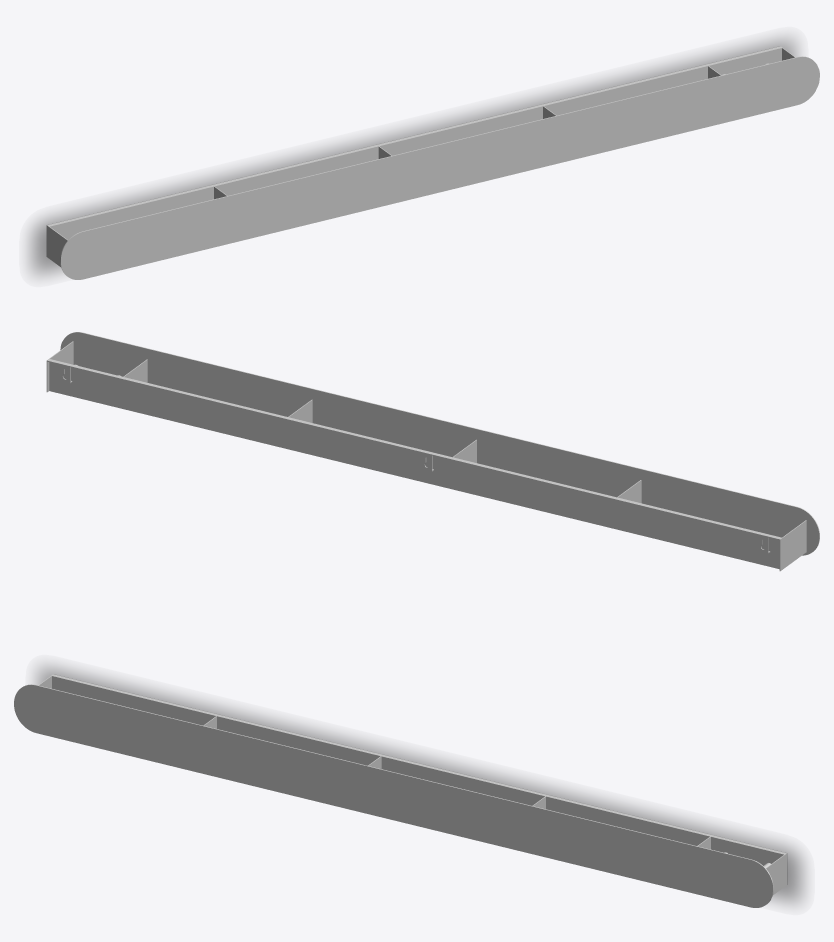
Rendered from round-patron.0ed51e3148.ar.glb.
3 views of the same model, one above another, from view 1: azimuth 30°, elevation 25°; view 2: azimuth 150°, elevation 25°; view 3: azimuth 330°, elevation 25° (orthographic).
Parts seen in each view (by area): view 1: NAUO1, object 2; view 2: NAUO1; view 3: NAUO1, object 2.
Part boxes in pixels (bbox=[...]): NAUO1: bbox=[46, 46, 819, 279]; object 2: bbox=[29, 38, 798, 275]; NAUO1: bbox=[46, 332, 819, 571]; NAUO1: bbox=[14, 674, 787, 907]; object 2: bbox=[35, 666, 804, 903].
Size of the model in its own units: 1.58 by 0.17 by 0.092.
2 materials, 1 textured.
